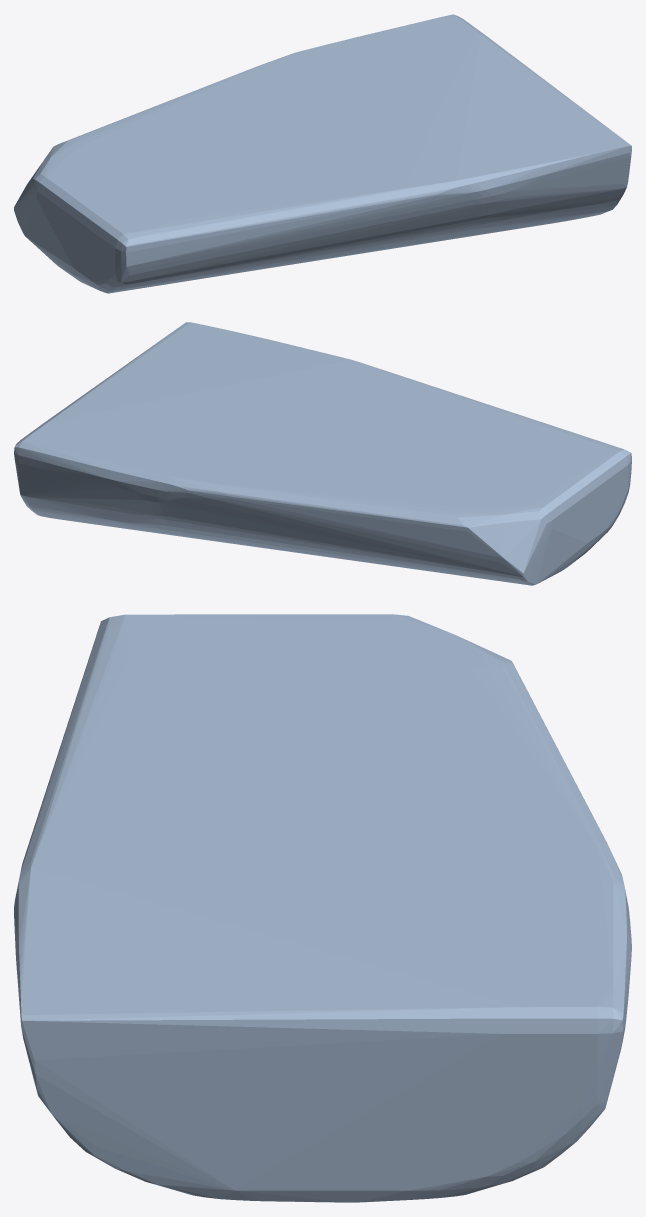
Rendered from right-shin-0_part_6.obj.
3 renders of one model, top to bottom at view 1: azimuth 30°, elevation 25°; view 2: azimuth 150°, elevation 25°; view 3: azimuth 270°, elevation 25°, orthographic. The views are drawn at different scales.
Size of the model in its own units: 0.1463 by 0.033 by 0.0941.
